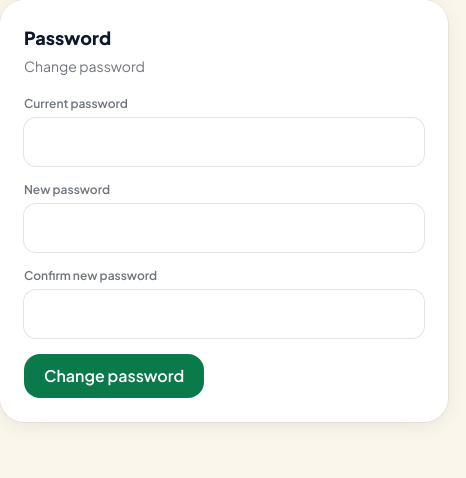
AccountSecurity › blocks submit when the new password is too short
Type "oldpass1" into the password field labelled "Current password" at [224, 142], box [24,118,424,166]
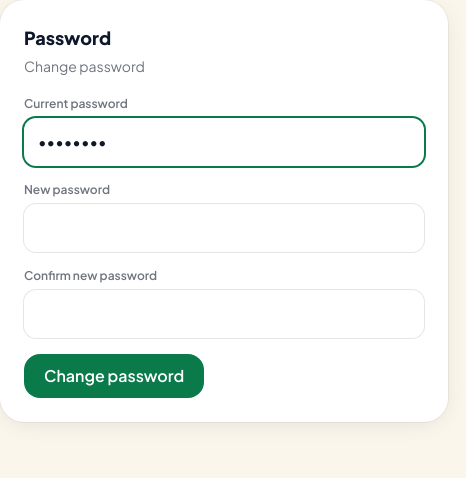
Type "short" into the password field labelled "New password" at [224, 228], box [24,204,424,252]
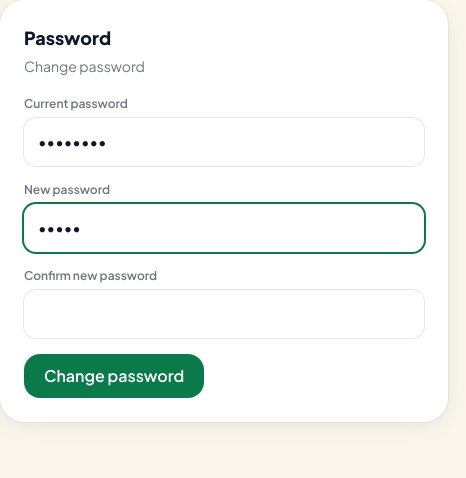
Type "short" into the password field labelled "Confirm new password" at [224, 314], box [24,290,424,338]
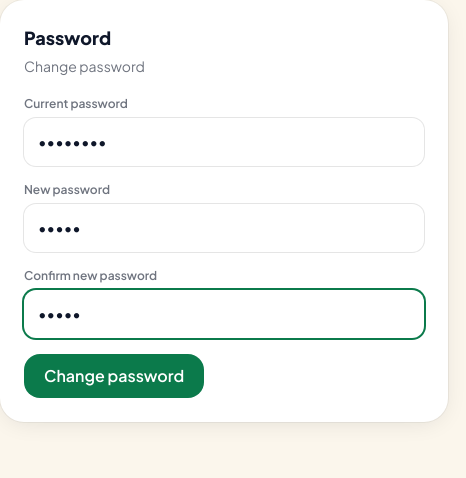
Click the button "Change password" at [114, 376], box [24,354,204,398]
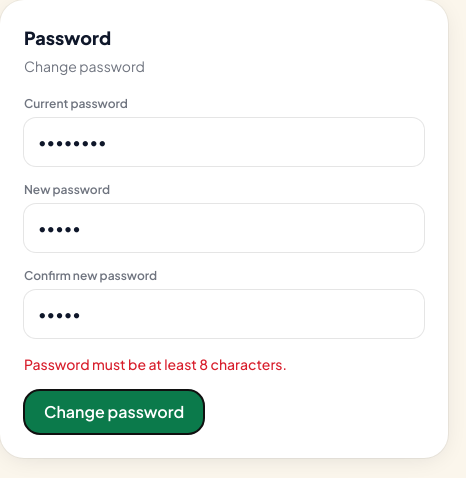
Expected: the text "Password must be at least 8 characters." is shown, [24,355,287,373]
